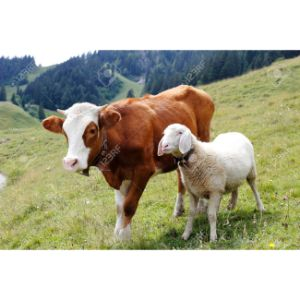cow: (42, 100, 157, 237)
sheep: (159, 120, 266, 244)
